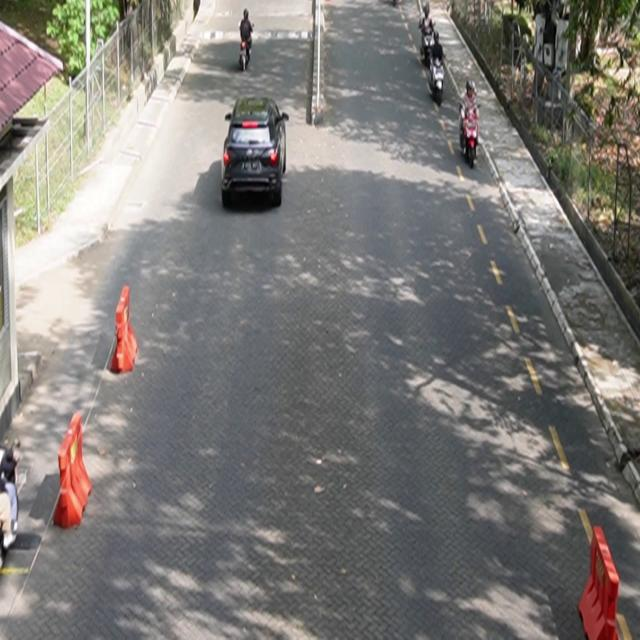car: (222, 96, 290, 209)
